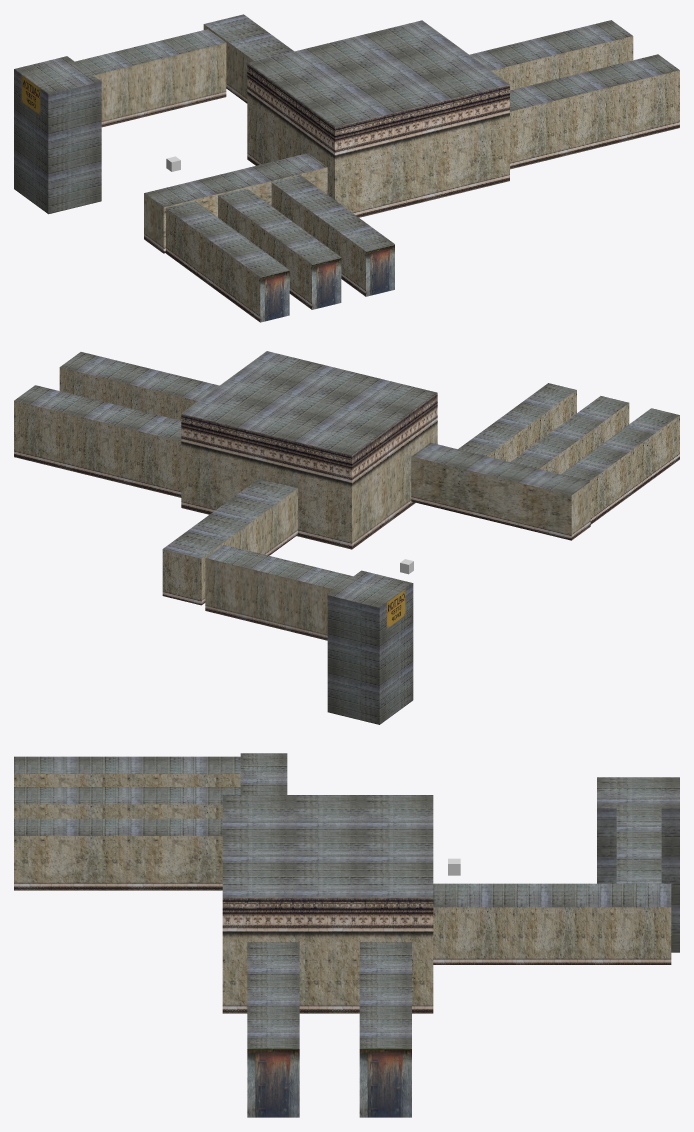
Rendered from multiCameraUp.FBX.
3 renders of one model, top to bottom at view 1: azimuth 30°, elevation 25°; view 2: azimuth 150°, elevation 25°; view 3: azimuth 270°, elevation 25°, orthographic. The views are drawn at different scales.
Visible parts, largest first — view 1: Box02; view 2: Box02; view 3: Box02.
Part boxes in pixels (left/top/right/bottom): Box02: left=14, top=14, right=679, bottom=322; Box02: left=14, top=351, right=679, bottom=724; Box02: left=14, top=753, right=679, bottom=1117.
Size of the model in its own units: 170 by 52.93 by 157.
